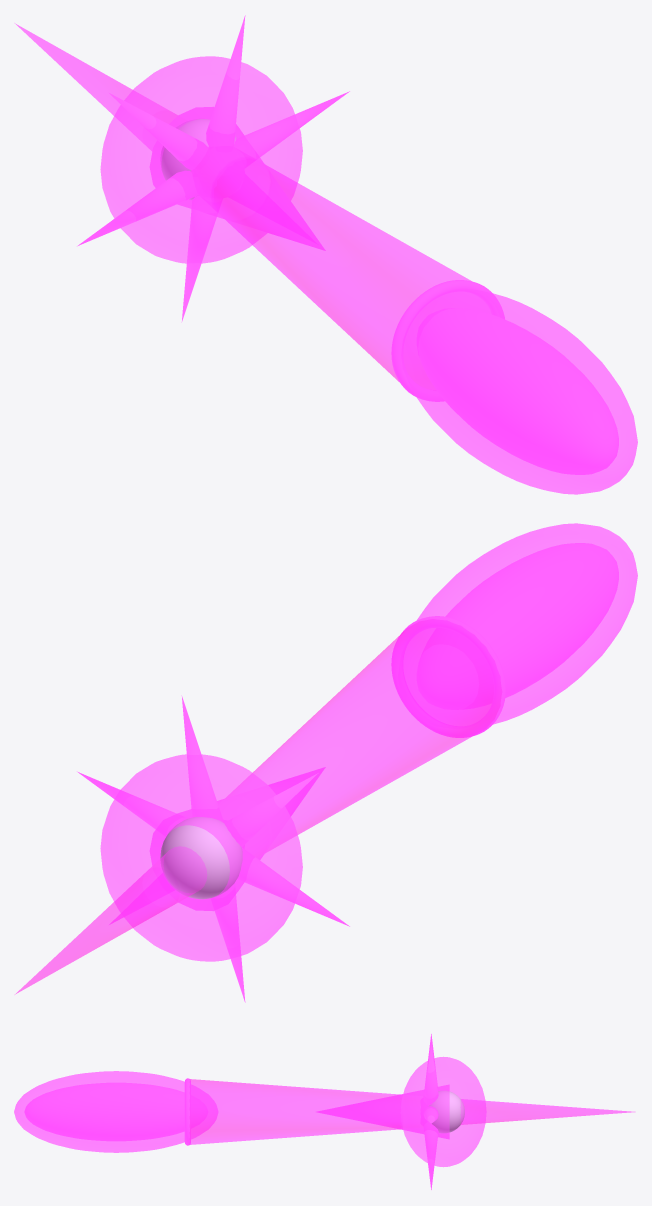
Rendered from PlasmaRifle_Bolt.fbx.
3 views of the same model, one above another, from view 1: azimuth 30°, elevation 25°; view 2: azimuth 150°, elevation 25°; view 3: azimuth 270°, elevation 25° (orthographic). The views are drawn at different scales.
Visible parts, largest first — view 1: PlasmaRifle_Bolt_Pro_Glass_pink_0.45, PlasmaRifle_Bolt_Pro_Glass_pink_0.4, PlasmaRifle_Bolt_Pro_Glass_pink_0.35, PlasmaRifle_Bolt_Pro_Glow_pink_12, PlasmaRifle_Bolt_Pro_Glow_pink_14, PlasmaRifle_Bolt_Pro_Glass_pink_0.5, PlasmaRifle_Bolt_Pro_Glow_pink_10, PlasmaRifle_Bolt_Pro_Glow_white_25; view 2: PlasmaRifle_Bolt_Pro_Glass_pink_0.35, PlasmaRifle_Bolt_Pro_Glass_pink_0.4, PlasmaRifle_Bolt_Pro_Glass_pink_0.45, PlasmaRifle_Bolt_Pro_Glow_pink_12, PlasmaRifle_Bolt_Pro_Glow_pink_14, PlasmaRifle_Bolt_Pro_Glass_pink_0.5, PlasmaRifle_Bolt_Pro_Glow_white_25, PlasmaRifle_Bolt_Pro_Glow_pink_10; view 3: PlasmaRifle_Bolt_Pro_Glass_pink_0.35, PlasmaRifle_Bolt_Pro_Glass_pink_0.45, PlasmaRifle_Bolt_Pro_Glow_pink_12, PlasmaRifle_Bolt_Pro_Glass_pink_0.4, PlasmaRifle_Bolt_Pro_Glass_pink_0.5, PlasmaRifle_Bolt_Pro_Glow_pink_14, PlasmaRifle_Bolt_Pro_Glow_white_25, PlasmaRifle_Bolt_Pro_Glow_pink_10.
Boxes of the visible parts, bbox=[...] form: PlasmaRifle_Bolt_Pro_Glass_pink_0.45: bbox=[401, 288, 637, 494]; PlasmaRifle_Bolt_Pro_Glass_pink_0.4: bbox=[100, 56, 302, 263]; PlasmaRifle_Bolt_Pro_Glass_pink_0.35: bbox=[15, 23, 491, 389]; PlasmaRifle_Bolt_Pro_Glow_pink_12: bbox=[417, 308, 618, 474]; PlasmaRifle_Bolt_Pro_Glow_pink_14: bbox=[77, 15, 349, 322]; PlasmaRifle_Bolt_Pro_Glass_pink_0.5: bbox=[150, 107, 325, 250]; PlasmaRifle_Bolt_Pro_Glow_pink_10: bbox=[391, 280, 504, 401]; PlasmaRifle_Bolt_Pro_Glow_white_25: bbox=[161, 119, 236, 199]; PlasmaRifle_Bolt_Pro_Glass_pink_0.35: bbox=[15, 619, 501, 994]; PlasmaRifle_Bolt_Pro_Glass_pink_0.4: bbox=[100, 754, 302, 961]; PlasmaRifle_Bolt_Pro_Glass_pink_0.45: bbox=[397, 523, 637, 728]; PlasmaRifle_Bolt_Pro_Glow_pink_12: bbox=[417, 543, 618, 709]; PlasmaRifle_Bolt_Pro_Glow_pink_14: bbox=[77, 695, 349, 1002]; PlasmaRifle_Bolt_Pro_Glass_pink_0.5: bbox=[150, 767, 325, 910]; PlasmaRifle_Bolt_Pro_Glow_white_25: bbox=[160, 817, 242, 899]; PlasmaRifle_Bolt_Pro_Glow_pink_10: bbox=[391, 616, 505, 737]; PlasmaRifle_Bolt_Pro_Glass_pink_0.35: bbox=[190, 1079, 634, 1144]; PlasmaRifle_Bolt_Pro_Glass_pink_0.45: bbox=[14, 1071, 218, 1152]; PlasmaRifle_Bolt_Pro_Glow_pink_12: bbox=[24, 1082, 207, 1141]; PlasmaRifle_Bolt_Pro_Glass_pink_0.4: bbox=[401, 1057, 486, 1166]; PlasmaRifle_Bolt_Pro_Glass_pink_0.5: bbox=[316, 1085, 449, 1138]; PlasmaRifle_Bolt_Pro_Glow_pink_14: bbox=[421, 1034, 438, 1189]; PlasmaRifle_Bolt_Pro_Glow_white_25: bbox=[429, 1091, 464, 1132]; PlasmaRifle_Bolt_Pro_Glow_pink_10: bbox=[184, 1078, 190, 1145].
Size of the model in its own units: 0.1605 by 0.1638 by 0.61.
